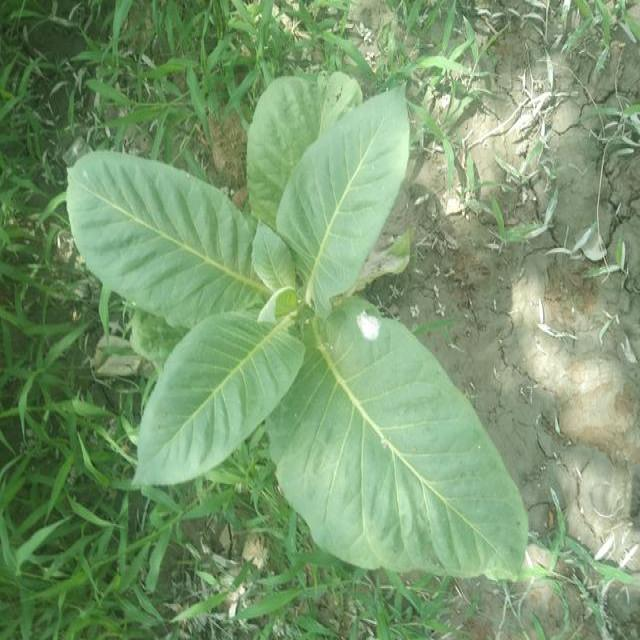crop: (69, 111, 536, 590)
